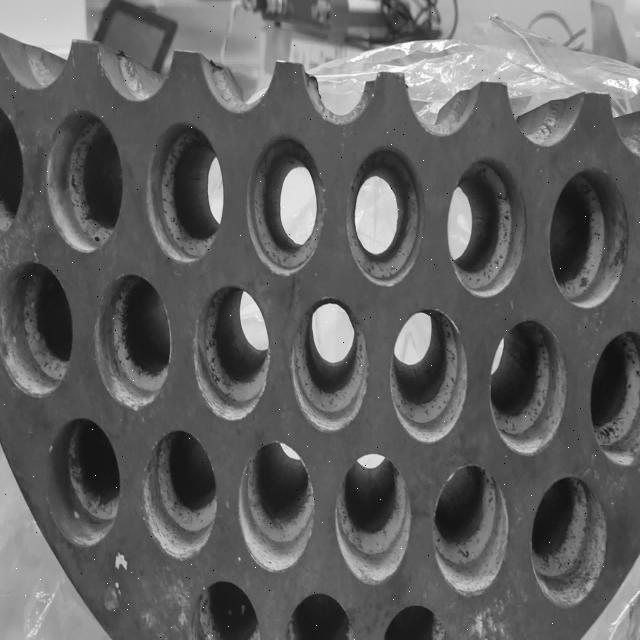Hole: (44, 108, 124, 252), (446, 156, 526, 298), (246, 133, 325, 276), (145, 121, 224, 264), (549, 168, 629, 309), (488, 316, 568, 456), (346, 144, 423, 287), (290, 296, 369, 433), (390, 307, 468, 444), (94, 273, 171, 411), (193, 284, 270, 421), (433, 461, 509, 597), (334, 452, 411, 586), (141, 428, 218, 560), (238, 440, 315, 572), (531, 476, 607, 608), (1, 261, 73, 397), (48, 415, 120, 547), (589, 330, 640, 467), (194, 578, 262, 639), (284, 590, 354, 640), (0, 101, 24, 237), (379, 602, 453, 640)
